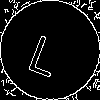L: (25, 25, 68, 78)
